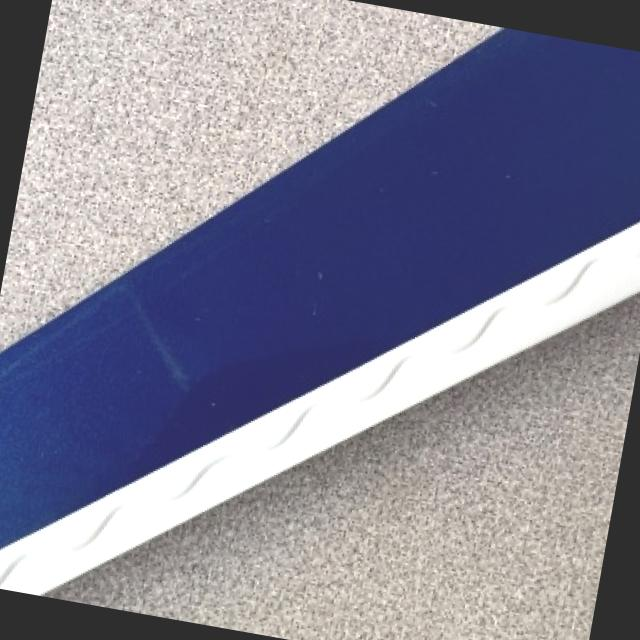healthy: (0, 27, 640, 593)
